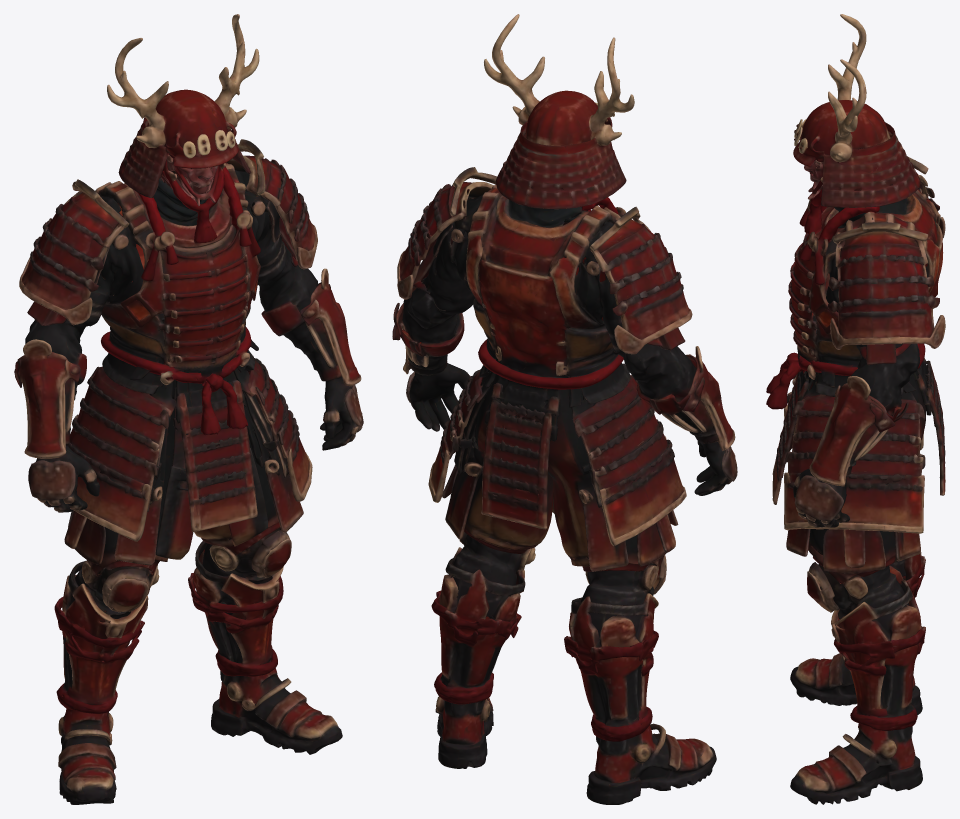
The model's file is trellis-front-only.glb.
3 renders of one model, left to right at view 1: azimuth 30°, elevation 25°; view 2: azimuth 150°, elevation 25°; view 3: azimuth 270°, elevation 25°, orthographic. The views are drawn at different scales.
Parts seen in each view (by area): view 1: geometry_0; view 2: geometry_0; view 3: geometry_0.
Part boxes in pixels (left/top/right/bottom): geometry_0: left=14, top=14, right=363, bottom=804; geometry_0: left=392, top=14, right=737, bottom=804; geometry_0: left=766, top=14, right=945, bottom=804.
Bounding box in the file's own units: 0.4649 × 1 × 0.2288.
Materials: 1 (1 with a texture image).
